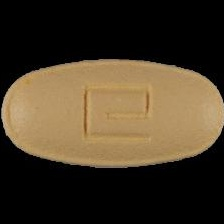0093-2061: (0, 0, 224, 224)
